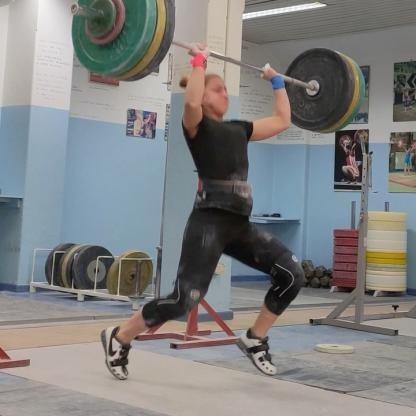barbell: (282, 49, 351, 132)
